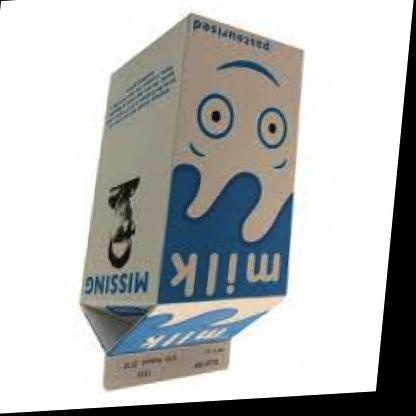trash: (80, 14, 302, 388)
